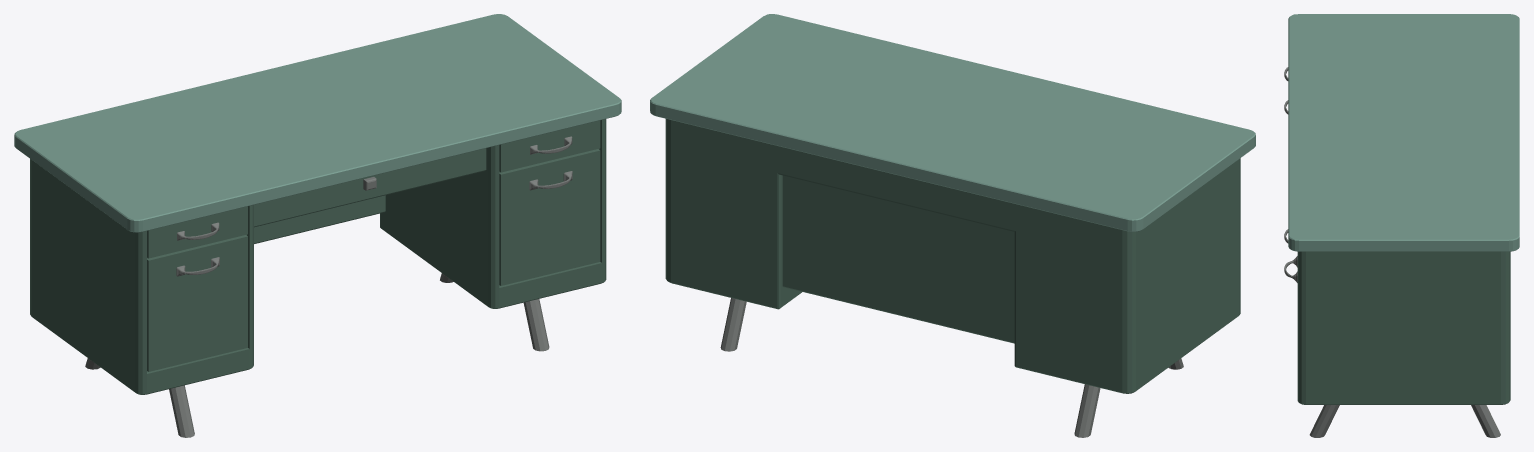
The model's file is Desk.fbx.
The picture shows the model from 3 angles, left to right: view 1: azimuth 30°, elevation 25°; view 2: azimuth 150°, elevation 25°; view 3: azimuth 270°, elevation 25°; orthographic projection. The views are drawn at different scales.
Parts seen in each view (by area): view 1: Cube; view 2: Cube; view 3: Cube.
Part boxes in pixels (<box>): Cube: <box>14,14,621,437</box>; Cube: <box>650,14,1255,437</box>; Cube: <box>1284,14,1519,437</box>.
Bounding box in the file's own units: 2.52 × 1.11 × 1.17.
